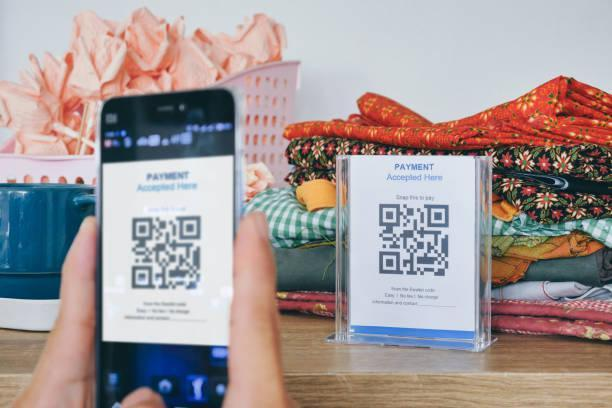qr_code: (378, 203, 449, 276), (132, 216, 201, 290)
